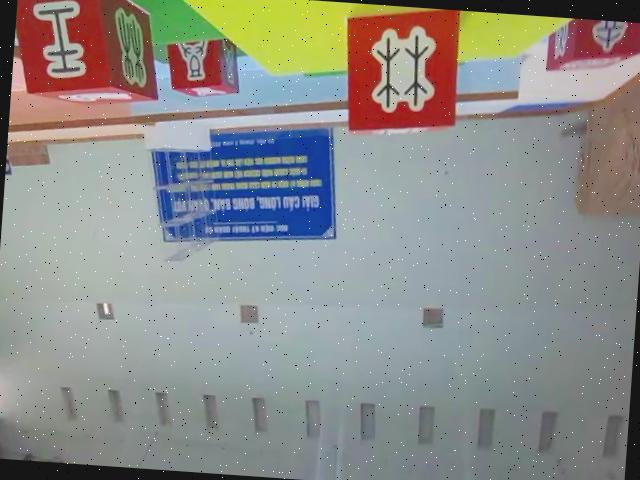R2 Fake: (9, 0, 165, 111), (542, 15, 640, 80)
R2 Real: (336, 1, 466, 146), (161, 30, 245, 102)
